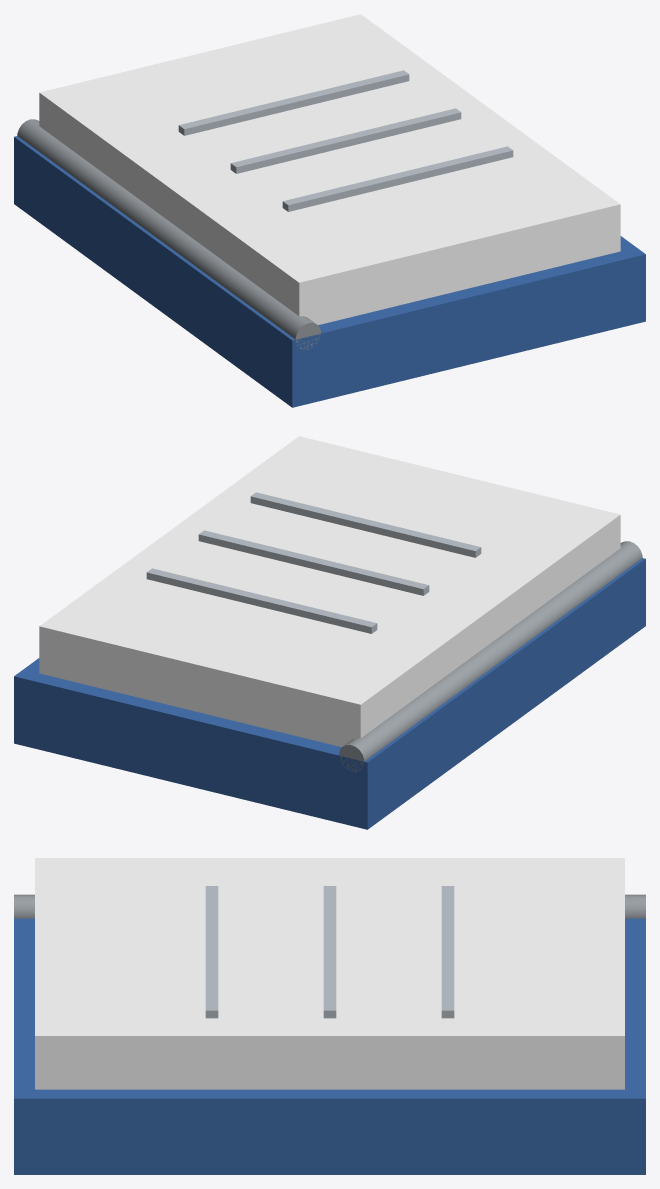
Rendered from item_contacts.fbx.
The picture shows the model from 3 angles, top to bottom: view 1: azimuth 30°, elevation 25°; view 2: azimuth 150°, elevation 25°; view 3: azimuth 270°, elevation 25°; orthographic projection. The views are drawn at different scales.
Parts seen in each view (by area): view 1: M__item_contacts; view 2: M__item_contacts; view 3: M__item_contacts.
Boxes of the visible parts, <box> form: M__item_contacts: <box>14,14,645,407</box>; M__item_contacts: <box>14,436,645,829</box>; M__item_contacts: <box>14,858,645,1174</box>.
Bounding box in the file's own units: 0.11 × 0.036 × 0.15.
